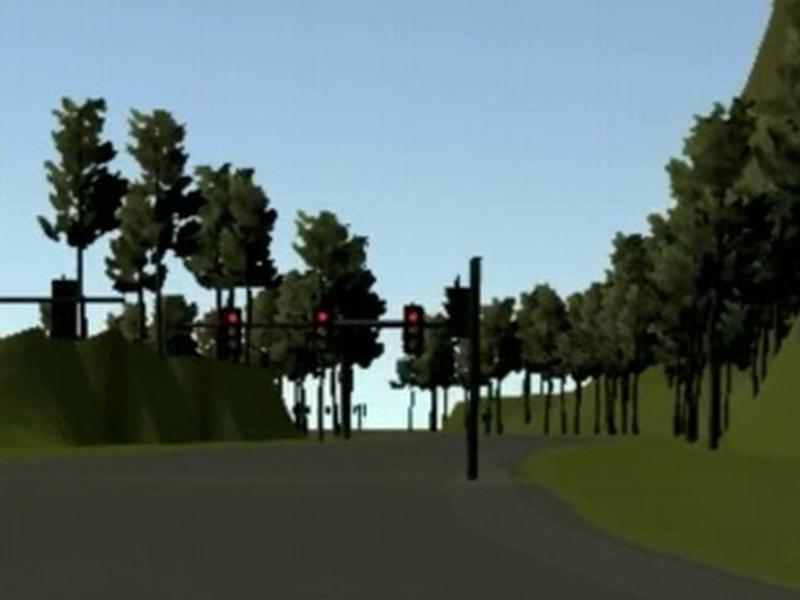Red: (223, 308, 242, 356), (403, 306, 422, 354), (312, 309, 332, 353)
